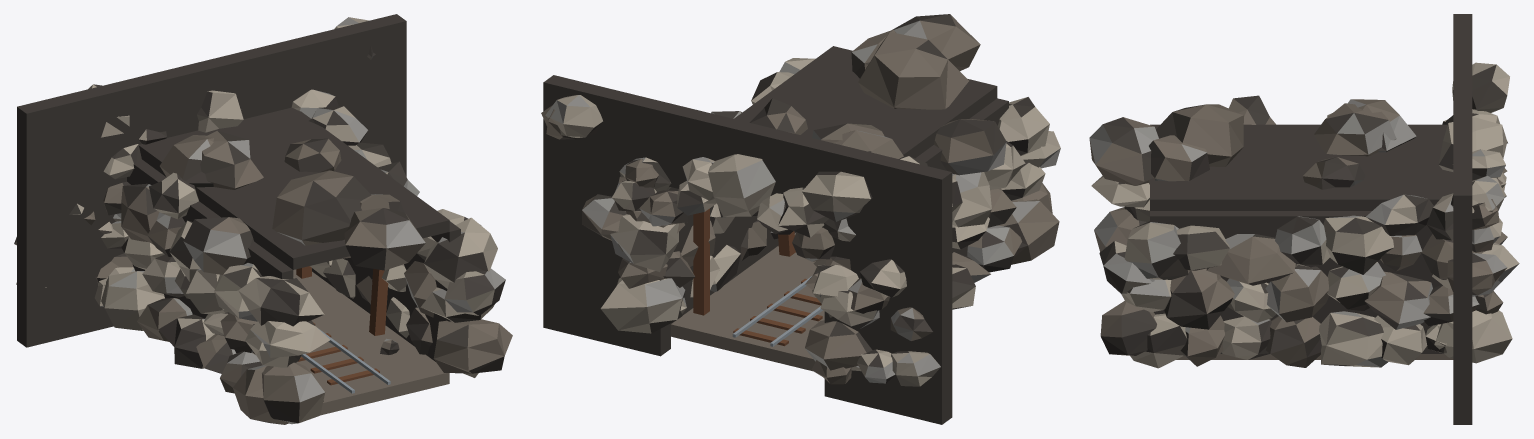
File: Cave_Mines_Entry.fbx
3 renders of one model, left to right at view 1: azimuth 30°, elevation 25°; view 2: azimuth 150°, elevation 25°; view 3: azimuth 270°, elevation 25°, orthographic. The views are drawn at different scales.
Parts seen in each view (by area): view 1: Decor, Plate1, Ceiling1, Plate2, Plate3, Floor1, Wall2, Wall1; view 2: Decor, Plate1, Plate2, Ceiling1, Floor1, Plate3, Wall1, Wall2; view 3: Decor, Ceiling1, Plate2, Wall1, Plate3, Plate1, Floor1.
Boxes of the visible parts, <box> form: Decor: <box>14,17,512,424</box>; Plate1: <box>17,79,138,347</box>; Ceiling1: <box>139,107,449,269</box>; Plate2: <box>285,14,406,176</box>; Plate3: <box>129,41,294,144</box>; Floor1: <box>293,269,449,415</box>; Wall2: <box>127,159,293,353</box>; Wall1: <box>312,221,460,361</box>; Decor: <box>541,14,1060,386</box>; Plate1: <box>824,143,952,424</box>; Plate2: <box>543,75,670,356</box>; Ceiling1: <box>734,46,997,158</box>; Floor1: <box>671,233,824,371</box>; Plate3: <box>660,103,834,195</box>; Wall1: <box>671,187,796,323</box>; Wall2: <box>915,98,1008,256</box>; Decor: <box>1089,62,1519,368</box>; Ceiling1: <box>1150,124,1453,210</box>; Plate2: <box>1453,142,1472,424</box>; Wall1: <box>1150,211,1443,353</box>; Plate3: <box>1453,67,1472,142</box>; Plate1: <box>1453,14,1472,67</box>; Floor1: <box>1176,354,1453,359</box>.
Bounding box in the file's own units: 34 × 20 × 34.01.
